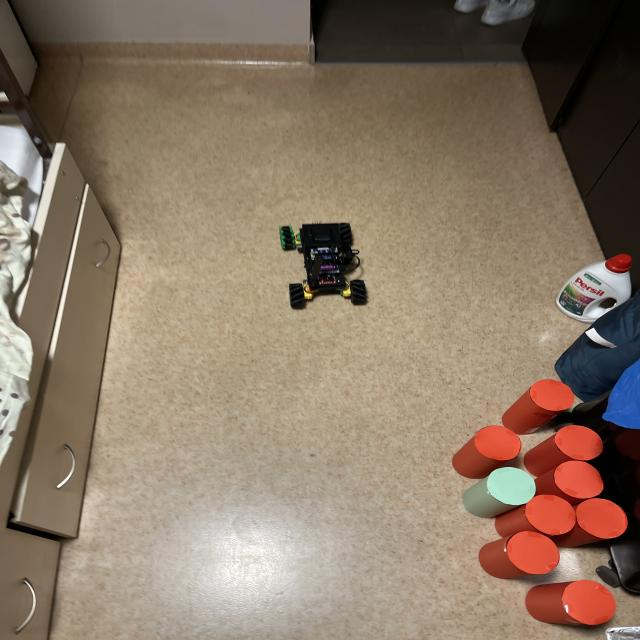robot: (280, 223, 366, 308)
